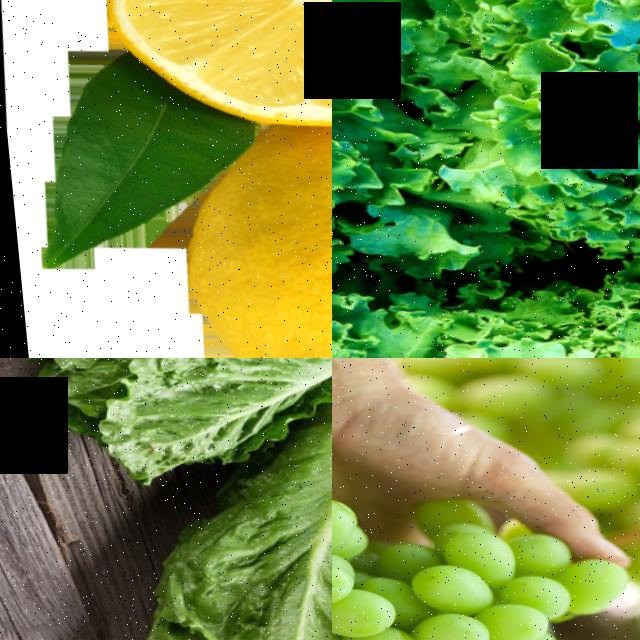grapes: (332, 466, 592, 640)
lemon: (177, 106, 332, 358), (91, 0, 332, 118)
lettuce: (332, 0, 640, 294), (0, 358, 332, 502), (92, 487, 332, 640), (332, 249, 640, 358)
